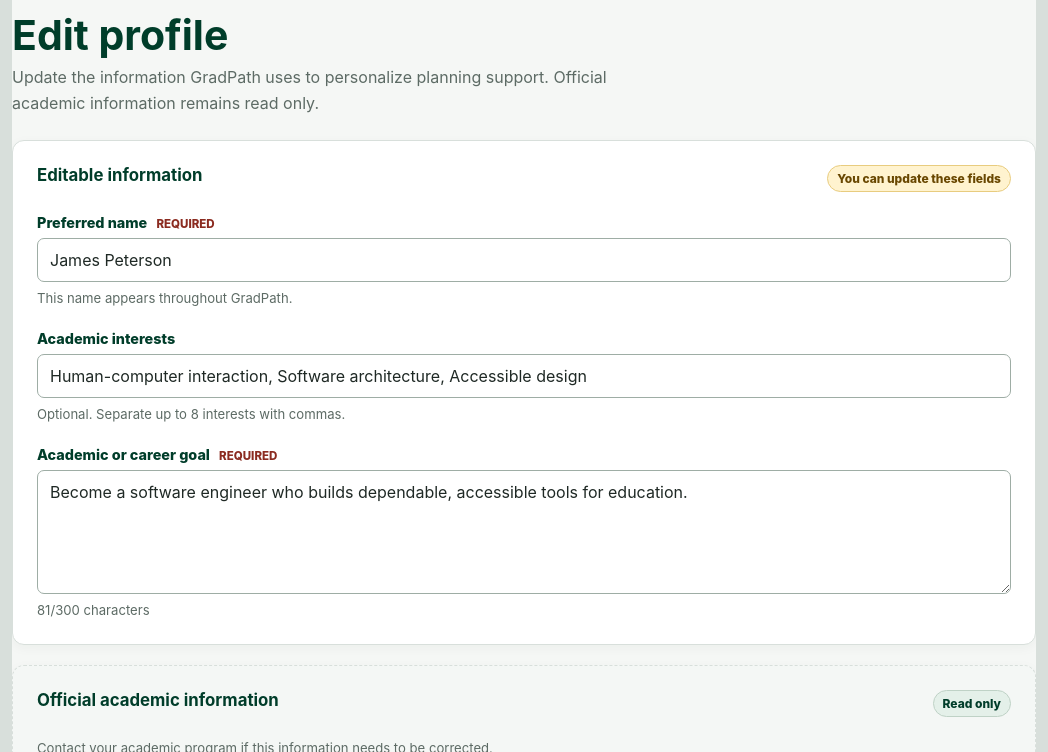
Test: ProfileEditForm › blocks an invalid save, explains errors, and focuses the first invalid field
Clear the field labelled "Preferred name Required" at (524, 260), box [37,238,1011,282]
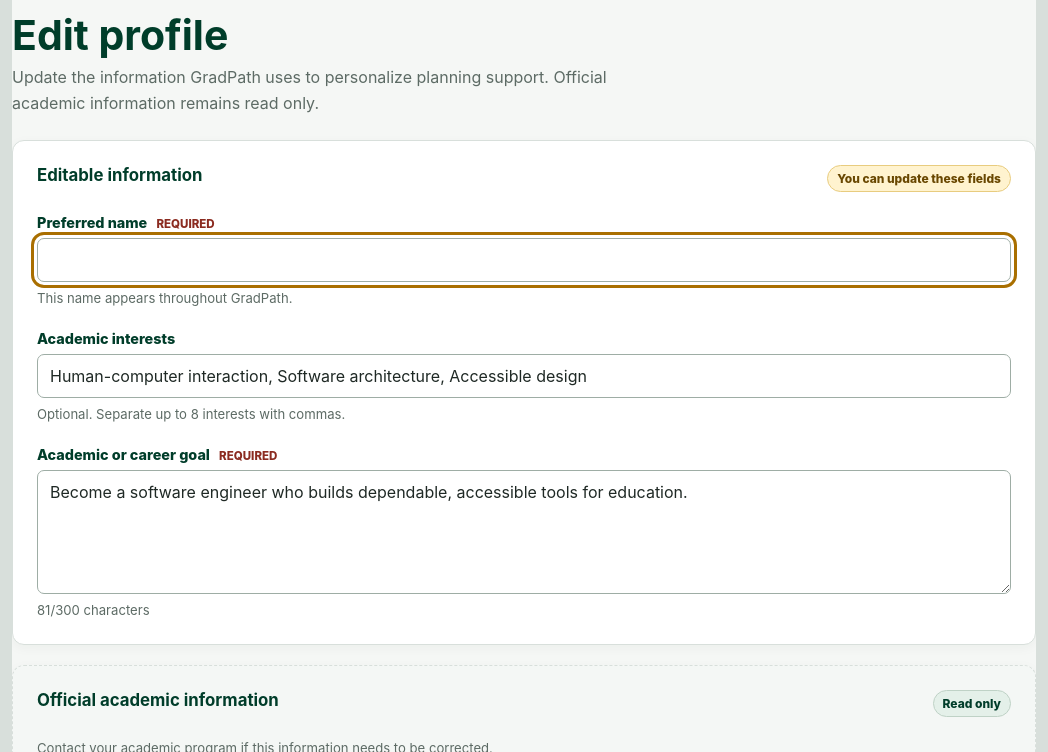
Clear the text box labelled "Academic or career goal Required" at (524, 532), box [37,470,1011,594]
(page scrolled)
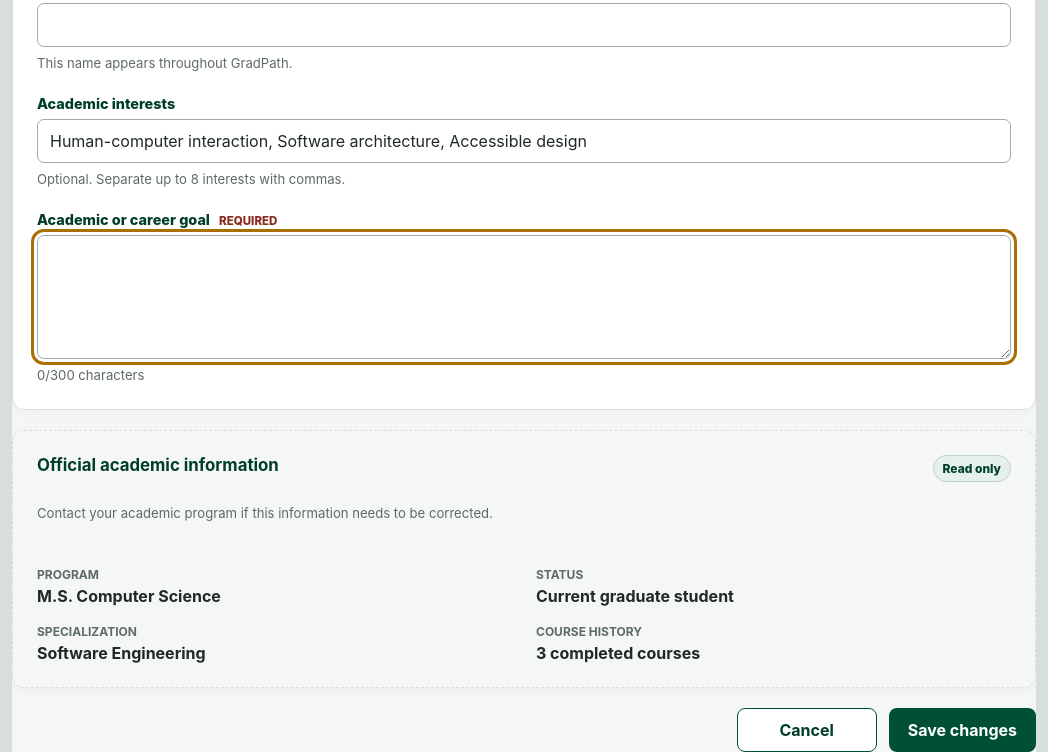
Click the button "Save changes".
click(962, 730)  # box [889,708,1036,751]
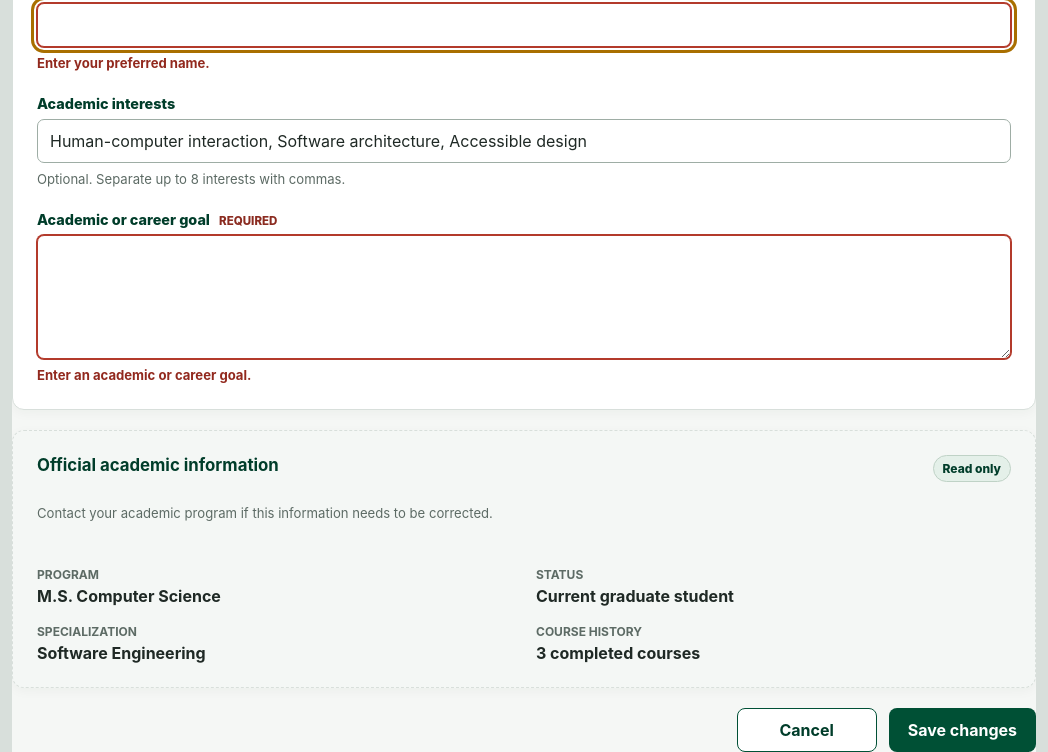
Expected: the text "Enter your preferred name." is shown, [37,55,210,71]
Expected: the text "Enter an academic or career goal." is shown, [37,367,251,383]
